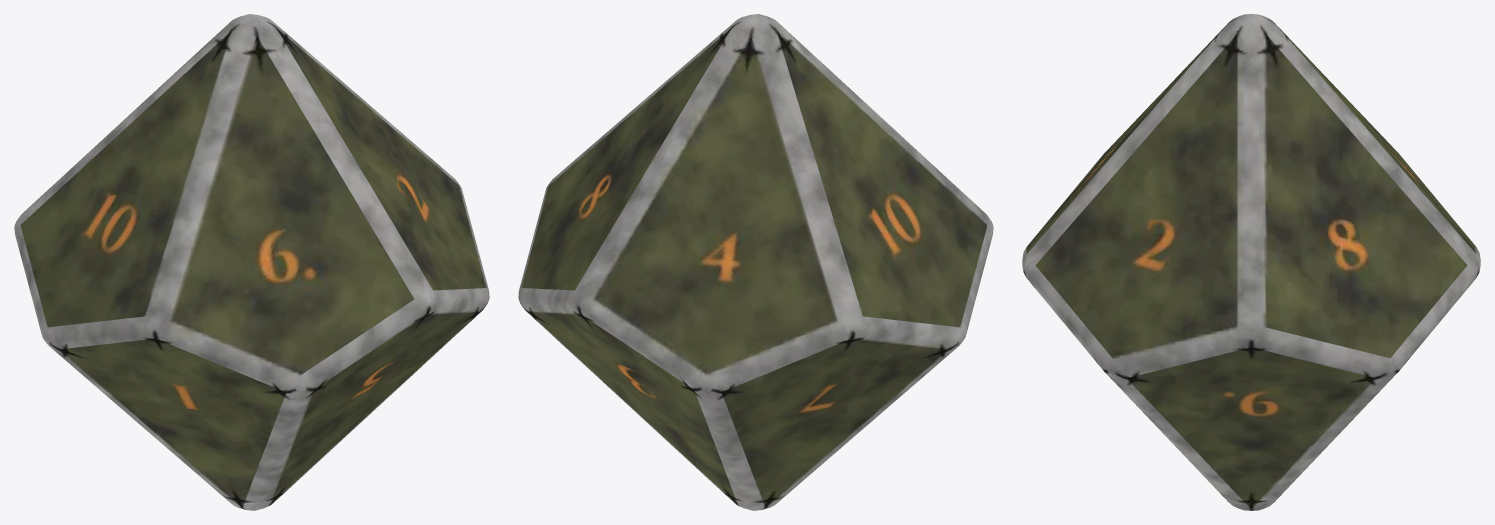
File: orc-d10.glb
3 views of the same model, side by side, from view 1: azimuth 30°, elevation 25°; view 2: azimuth 150°, elevation 25°; view 3: azimuth 270°, elevation 25° (orthographic).
Visible parts, largest first — view 1: orc_d10; view 2: orc_d10; view 3: orc_d10.
Boxes of the visible parts, <box> form: orc_d10: <box>14,14,489,510</box>; orc_d10: <box>518,14,993,510</box>; orc_d10: <box>1022,14,1480,510</box>.
Size of the model in its own units: 1.66 by 1.91 by 1.59.
1 material, 1 textured.
